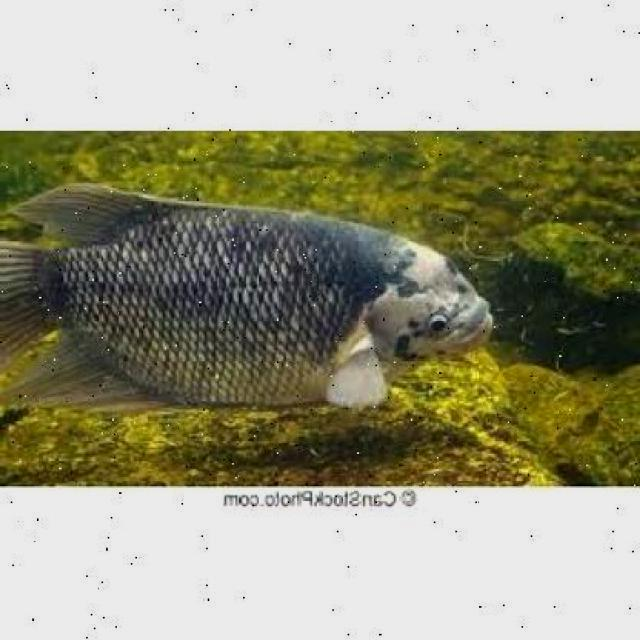gurame: (1, 182, 488, 418)
